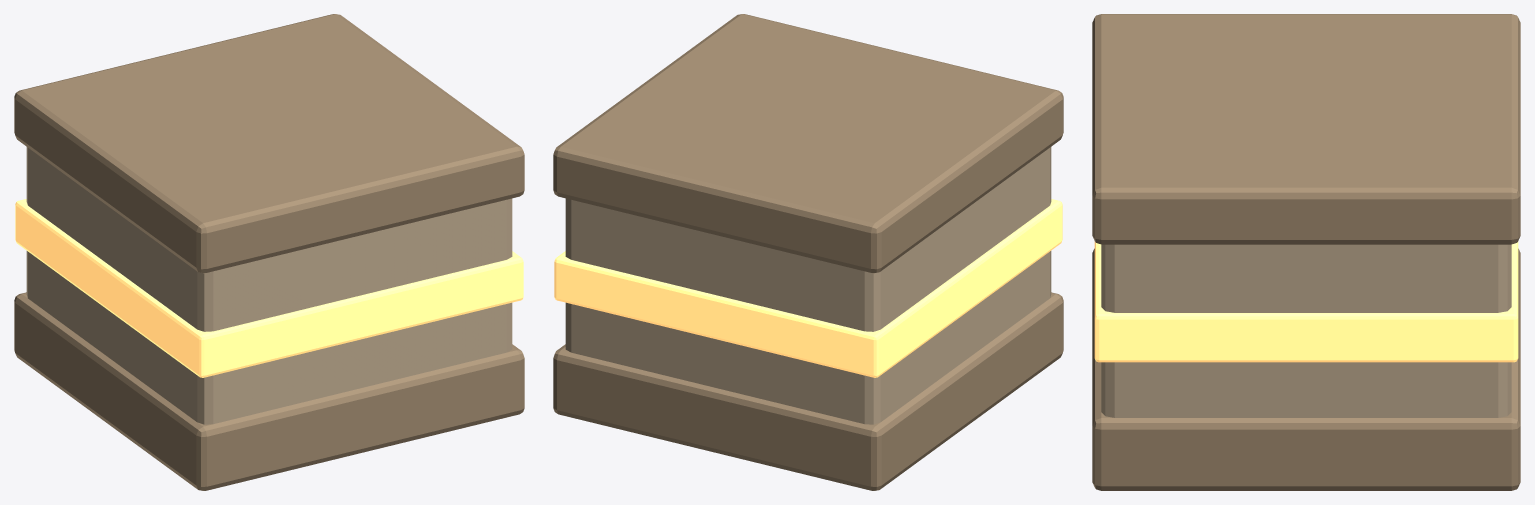
The model's file is dropping_block.glb.
The picture shows the model from 3 angles, left to right: view 1: azimuth 30°, elevation 25°; view 2: azimuth 150°, elevation 25°; view 3: azimuth 270°, elevation 25°; orthographic projection. The views are drawn at different scales.
Visible parts, largest first — view 1: DropTopCap, DropCore, DropBottomCollar, DropRuneBand; view 2: DropTopCap, DropCore, DropBottomCollar, DropRuneBand; view 3: DropTopCap, DropCore, DropBottomCollar, DropRuneBand.
Boxes of the visible parts, <box> form: DropTopCap: <box>14,14,524,273</box>; DropCore: <box>26,147,512,424</box>; DropBottomCollar: <box>14,292,524,490</box>; DropRuneBand: <box>15,199,523,377</box>; DropTopCap: <box>553,14,1063,273</box>; DropCore: <box>565,147,1051,424</box>; DropBottomCollar: <box>553,292,1063,490</box>; DropRuneBand: <box>554,199,1062,377</box>; DropTopCap: <box>1092,14,1520,244</box>; DropCore: <box>1101,244,1511,417</box>; DropBottomCollar: <box>1092,248,1520,490</box>; DropRuneBand: <box>1094,241,1518,362</box>.
Bounding box in the file's own units: 0.96 × 0.75 × 0.96.
